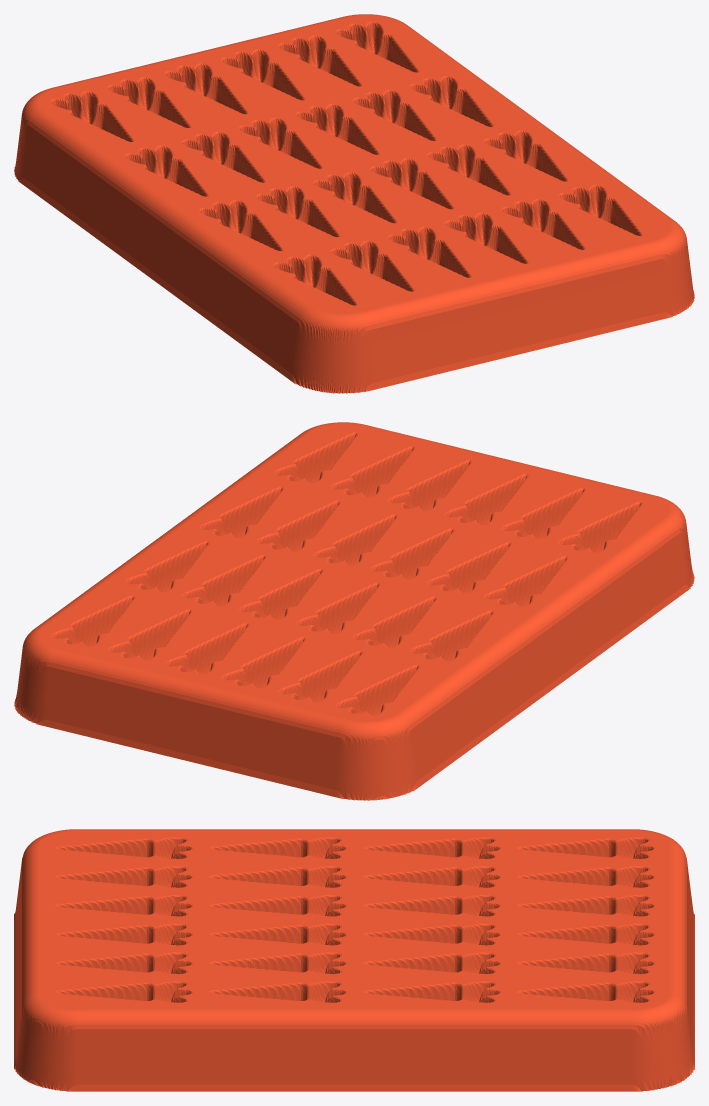
File: mold.glb
The picture shows the model from 3 angles, top to bottom: view 1: azimuth 30°, elevation 25°; view 2: azimuth 150°, elevation 25°; view 3: azimuth 270°, elevation 25°; orthographic projection. The views are drawn at different scales.
Visible parts, largest first — view 1: geometry_0; view 2: geometry_0; view 3: geometry_0.
Boxes of the visible parts, box(x1,y1,x2,y2) form: geometry_0: box(14, 14, 694, 393); geometry_0: box(14, 422, 694, 800); geometry_0: box(14, 829, 694, 1091).
Size of the model in its own units: 0.0681 by 0.0114 by 0.098.
